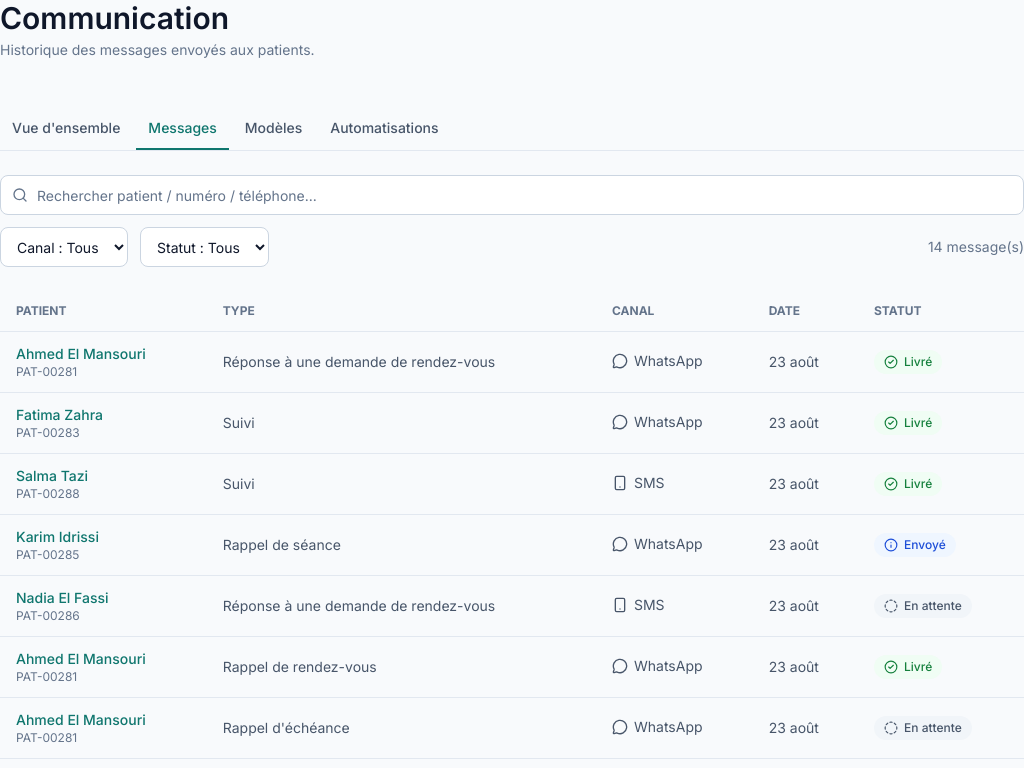
Scenario: MessagesPage › shows the failure reason for a failed message, with an operational retry button (Gate 3)
Select "Échec" in the dropdown named "Filtrer par statut" at (204, 247), box [140,227,269,267]
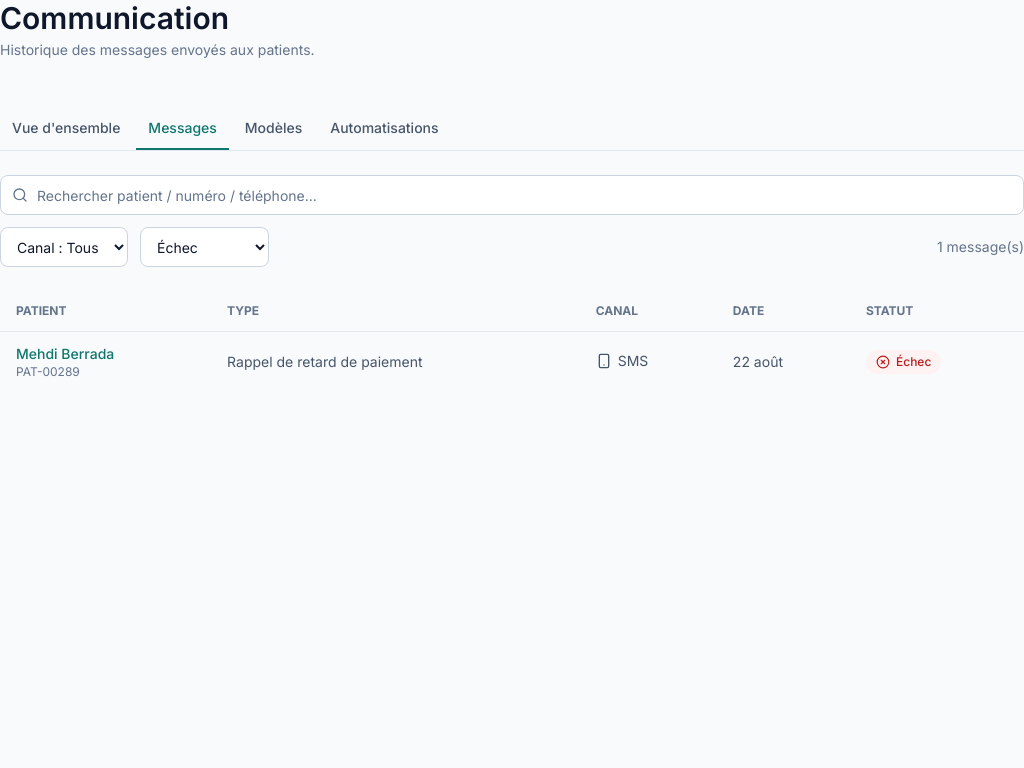
Click the button "Mehdi Berrada" at (65, 354), box [16,344,114,364]
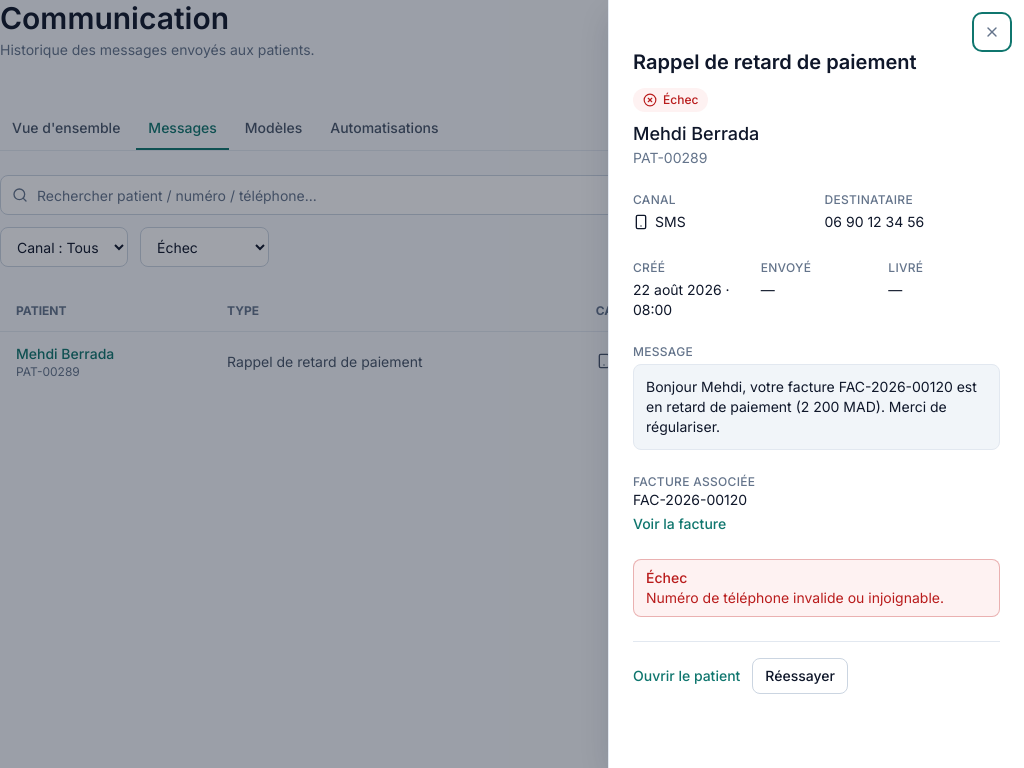
Expected: the text "Numéro de téléphone invalide ou injoignable." is shown, [646,588,987,608]
Expected: the button "Réessayer" is shown, [752,658,848,694]
